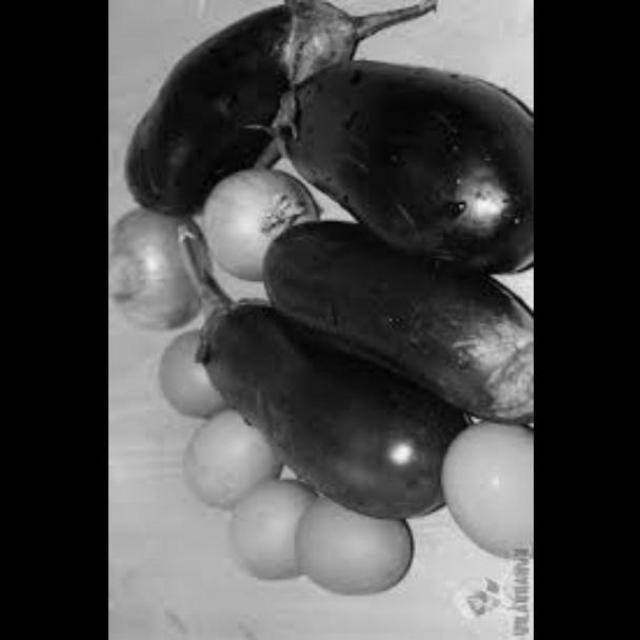eggplant: (110, 0, 433, 200), (170, 294, 451, 521), (250, 54, 531, 255), (258, 219, 531, 425)
onion: (199, 165, 315, 288), (107, 202, 209, 331)
